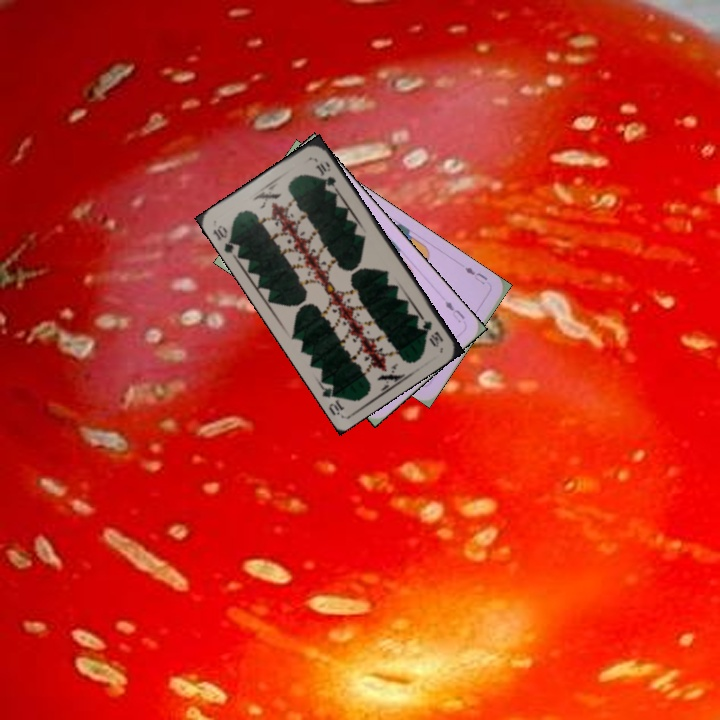EU: (441, 297, 467, 326), (461, 263, 490, 287)
G10: (413, 312, 446, 350), (209, 221, 242, 259)
